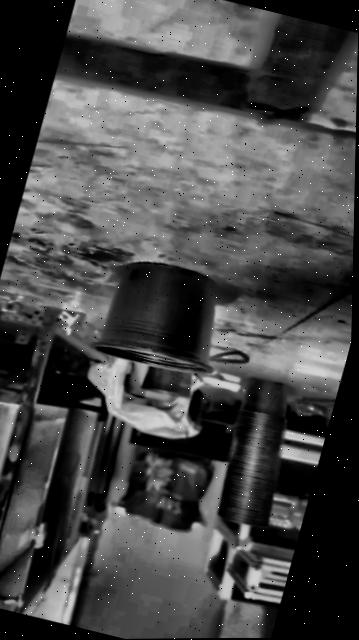pot: (89, 251, 236, 381)
